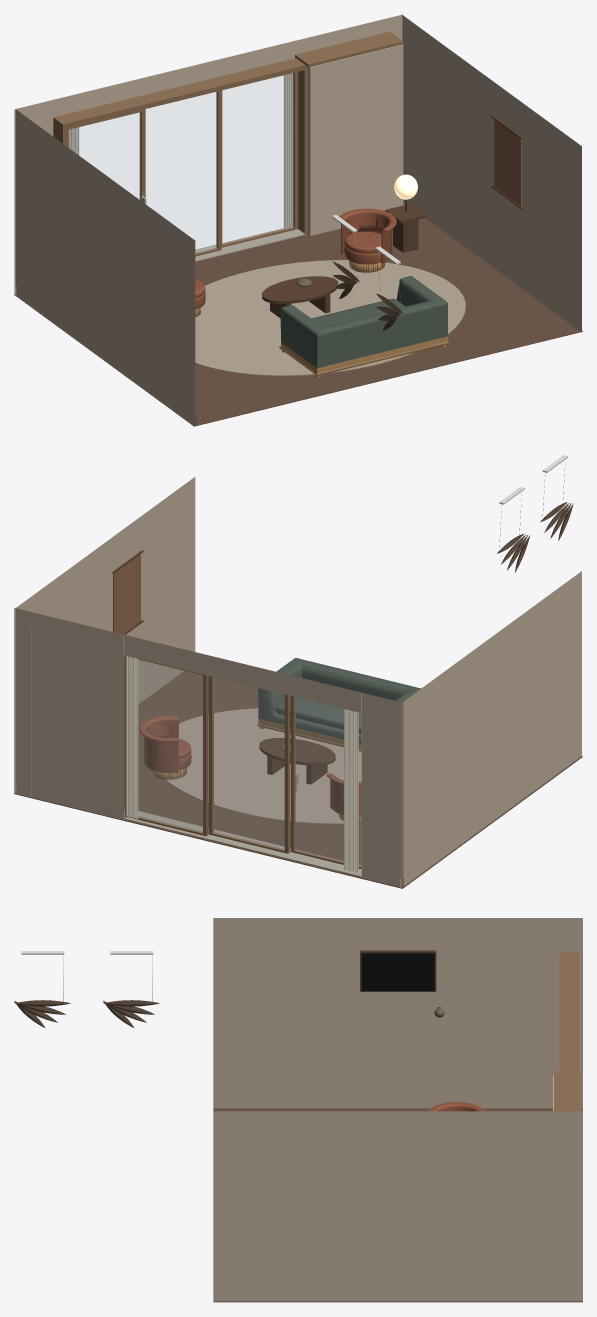
File: great-2.glb
3 renders of one model, top to bottom at view 1: azimuth 30°, elevation 25°; view 2: azimuth 150°, elevation 25°; view 3: azimuth 270°, elevation 25°, orthographic. The views are drawn at different scales.
Parts seen in each view (by area): view 1: DESIGN | great removable wall finish, DESIGN | great floor finish, DESIGN | R10 pocket enclosure face, DESIGN | Great room primary ground, DESIGN | R10 pocket panel 3 glass, DESIGN | Great room sofa facing conversation, DESIGN | R10 pocket panel 2 glass, DESIGN | R10 pocket panel 1 glass, DESIGN | R10 garden opening head, DESIGN | Required Bellustar swivel chair two, DESIGN | Great room linen hanging, DESIGN | R10 pocket access cap (+7 smaller); view 2: DESIGN | great removable wall finish, DESIGN | R10 pocket panel 2 glass, DESIGN | great floor finish, DESIGN | Great room primary ground, DESIGN | R10 pocket panel 3 glass, DESIGN | R10 pocket panel 1 glass, DESIGN | Great room sofa facing conversation, DESIGN | Required Bellustar swivel chair two, DESIGN | Great room soft window edge, DESIGN | Great room soft window edge.001, DESIGN | R10 drained garden sill, DESIGN | Great room linen hanging (+9 smaller); view 3: DESIGN | great removable wall finish, DESIGN | R10 television inactive screen, DESIGN | R10 garden opening head, DESIGN | great floor finish, DESIGN | R10 pocket access cap, DESIGN | Required Flou pendant 2, DESIGN | Required Flou pendant 1, DESIGN | R10 television frame.
Part boxes in pixels (x1,y1,x2,y2): DESIGN | great removable wall finish: (14,14,581,425); DESIGN | great floor finish: (14,202,582,426); DESIGN | R10 pocket enclosure face: (308,44,402,235); DESIGN | Great room primary ground: (195,260,465,375); DESIGN | R10 pocket panel 3 glass: (222,73,293,244); DESIGN | Great room sofa facing conversation: (279,276,448,377); DESIGN | R10 pocket panel 2 glass: (146,92,216,253); DESIGN | R10 pocket panel 1 glass: (69,112,140,199); DESIGN | R10 garden opening head: (53,58,307,128); DESIGN | Required Bellustar swivel chair two: (339,208,396,272); DESIGN | Great room linen hanging: (494,120,521,206); DESIGN | R10 pocket access cap: (295,31,403,67); DESIGN | great removable wall finish: (14,477,581,887); DESIGN | R10 pocket panel 2 glass: (213,677,284,849); DESIGN | great floor finish: (14,671,582,888); DESIGN | Great room primary ground: (165,708,361,823); DESIGN | R10 pocket panel 3 glass: (138,660,202,832); DESIGN | R10 pocket panel 1 glass: (295,697,361,865); DESIGN | Great room sofa facing conversation: (257,658,420,751); DESIGN | Required Bellustar swivel chair two: (139,715,191,779); DESIGN | Great room soft window edge: (344,709,358,873); DESIGN | Great room soft window edge.001: (126,656,138,819); DESIGN | R10 drained garden sill: (125,811,361,876); DESIGN | Great room linen hanging: (113,554,140,634); DESIGN | great removable wall finish: (213,918,582,1301); DESIGN | R10 television inactive screen: (361,953,434,990); DESIGN | R10 garden opening head: (559,952,578,1071); DESIGN | great floor finish: (213,1108,582,1302); DESIGN | R10 pocket access cap: (554,1071,581,1111); DESIGN | Required Flou pendant 2: (103,1000,159,1027); DESIGN | Required Flou pendant 1: (14,1000,70,1028); DESIGN | R10 television frame: (360,950,436,991).
Bounding box in the file's own units: 6 × 3.04 × 7.42.
